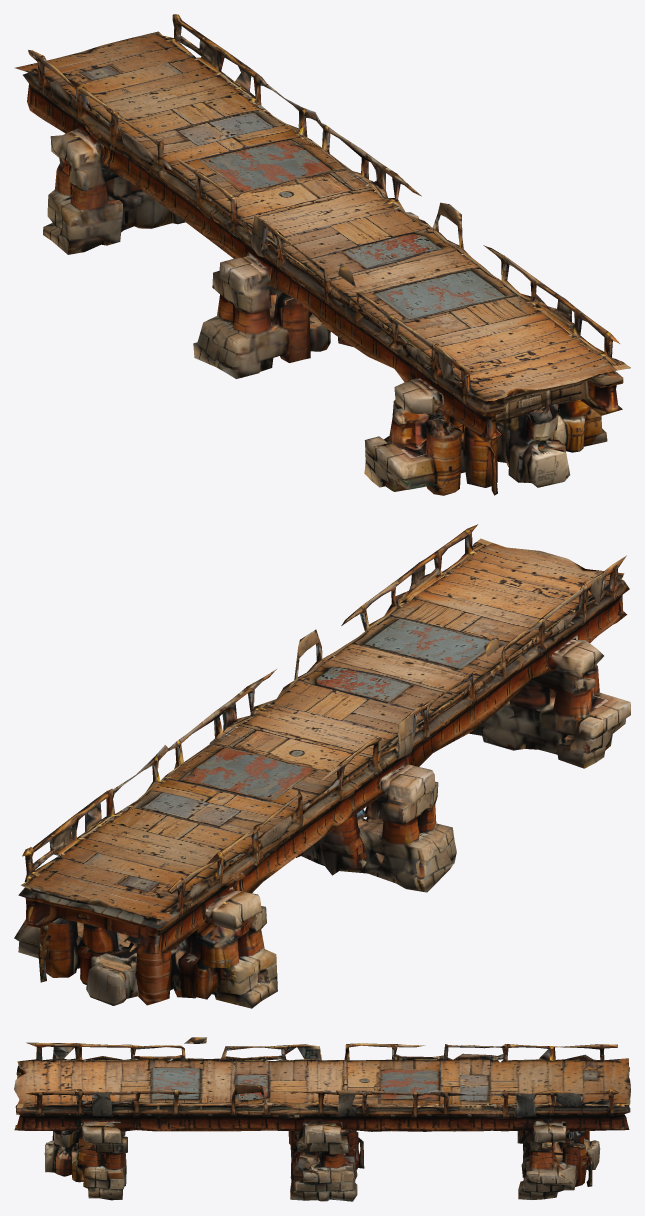
File: EX_Env_Bridge.fbx
3 renders of one model, top to bottom at view 1: azimuth 30°, elevation 25°; view 2: azimuth 150°, elevation 25°; view 3: azimuth 270°, elevation 25°, orthographic. The views are drawn at different scales.
Parts seen in each view (by area): view 1: texture_mapping; view 2: texture_mapping; view 3: texture_mapping.
Boxes of the visible parts, x1,y1,x2,y2 form: texture_mapping: [14, 14, 630, 495]; texture_mapping: [14, 524, 630, 1008]; texture_mapping: [14, 1037, 630, 1201].
Bounding box in the file's own units: 0.2927 × 0.9976 × 0.1884.
Materials: 1 (1 with a texture image).
